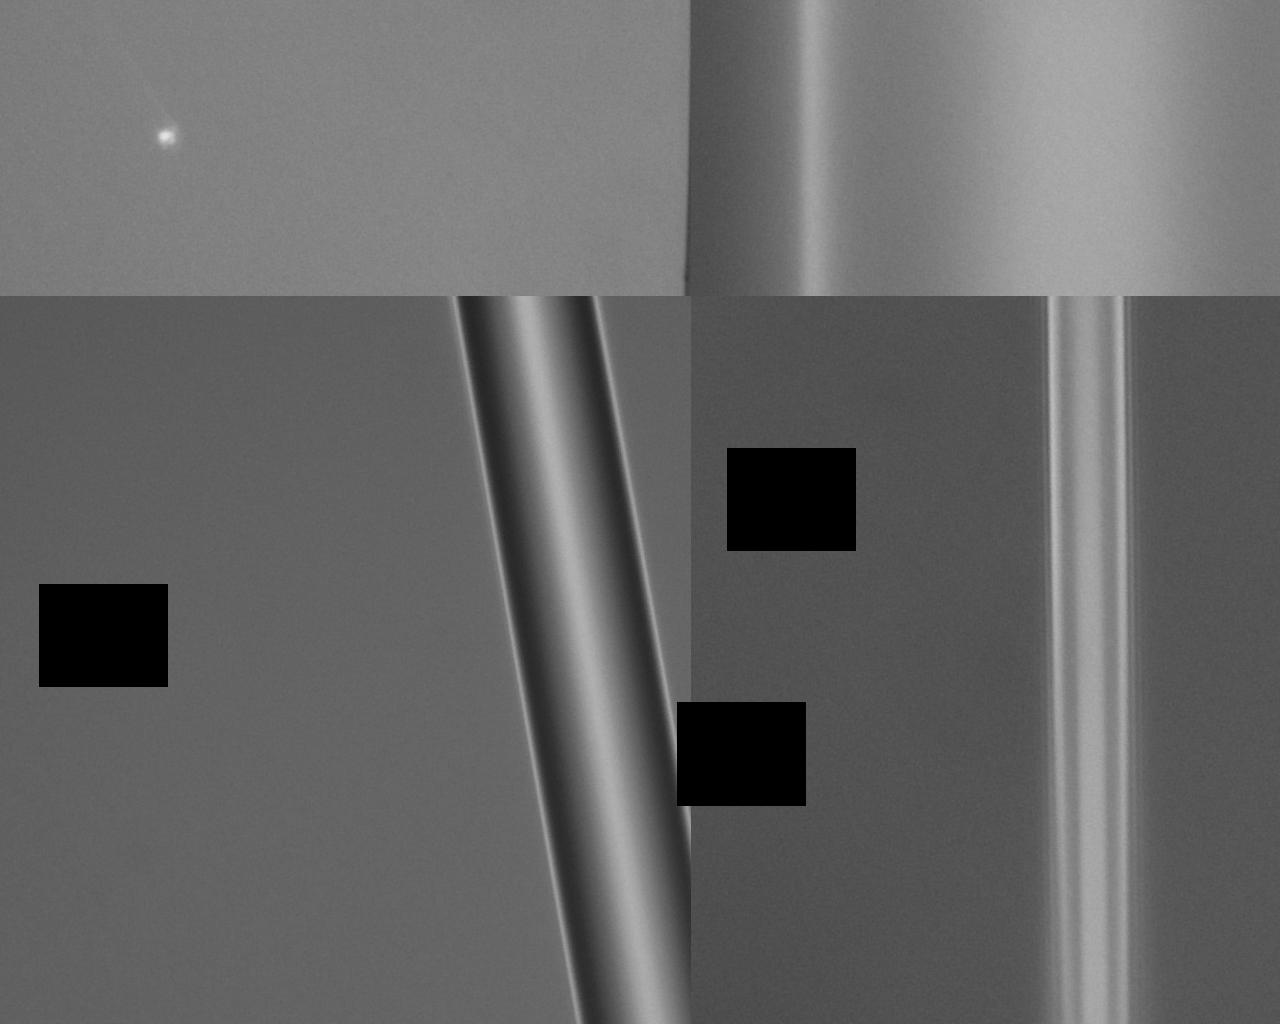fiber: (450, 296, 691, 1024), (799, 0, 1280, 296), (1046, 296, 1136, 1024)
